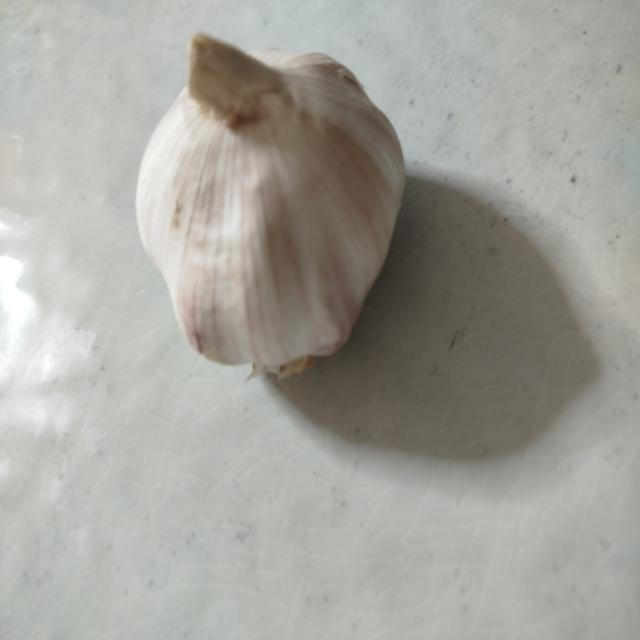garlic: (135, 30, 406, 382)
